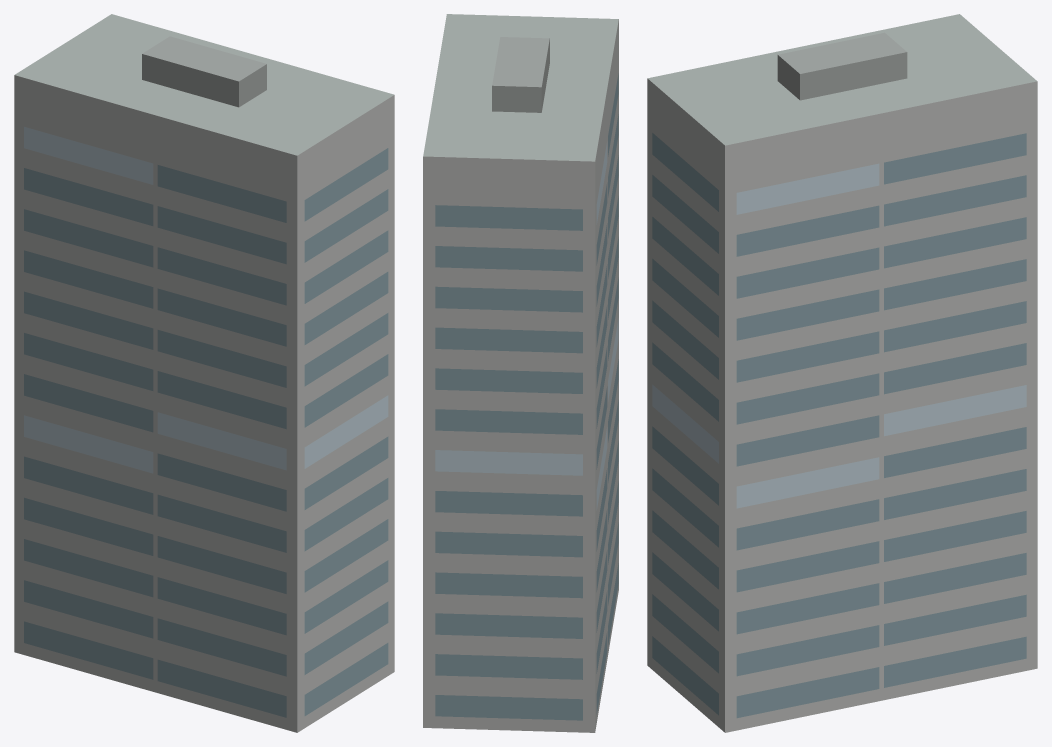
The model's file is fallback-olympic-athletes-village-313.glb.
The picture shows the model from 3 angles, left to right: view 1: azimuth 30°, elevation 25°; view 2: azimuth 150°, elevation 25°; view 3: azimuth 270°, elevation 25°; orthographic projection. The views are drawn at different scales.
Parts seen in each view (by area): view 1: fallback-olympic-athletes-village-313; view 2: fallback-olympic-athletes-village-313; view 3: fallback-olympic-athletes-village-313.
Part boxes in pixels (x1,y1,x2,y2): fallback-olympic-athletes-village-313: [14, 14, 394, 732]; fallback-olympic-athletes-village-313: [423, 14, 618, 732]; fallback-olympic-athletes-village-313: [647, 14, 1037, 732].
Bounding box in the file's own units: 20.53 × 44.62 × 25.7.
